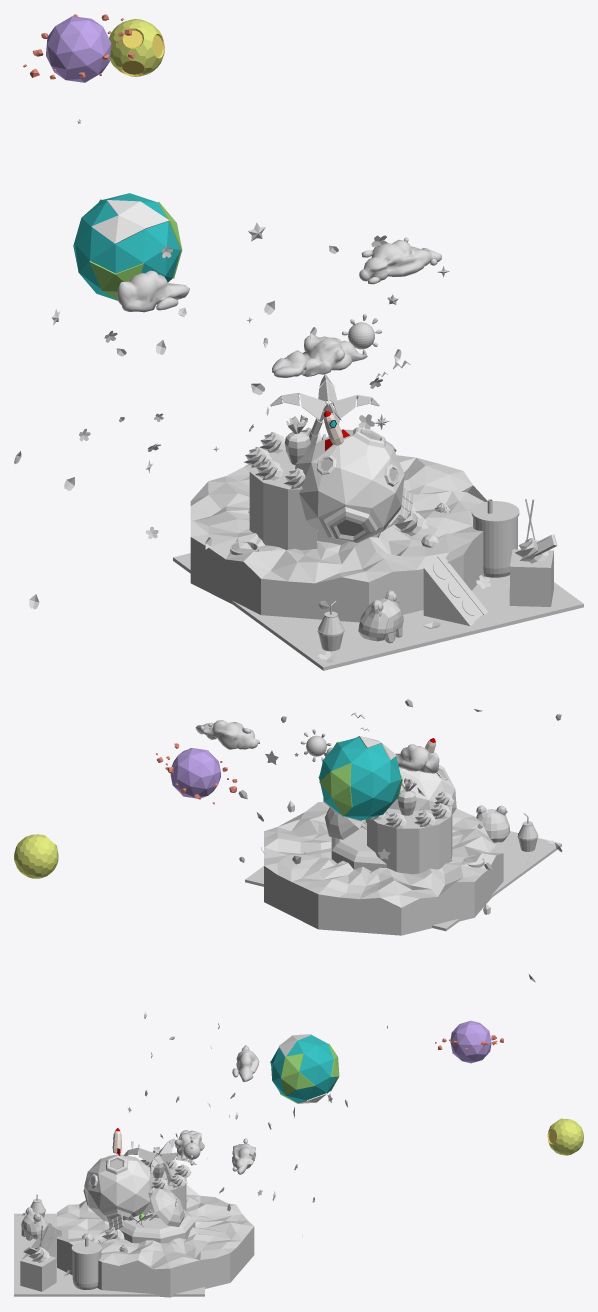
File: models.glb
The picture shows the model from 3 angles, top to bottom: view 1: azimuth 30°, elevation 25°; view 2: azimuth 150°, elevation 25°; view 3: azimuth 270°, elevation 25°; orthographic projection. The views are drawn at different scales.
Visible parts, largest first — view 1: water, planets, moon, cloud, white, cream2_in, red1_clip, cream1_out, green2, boba_cup, cream1_in, dark_green (+4 smaller); view 2: water, planets, cream2_in, cloud, moon, sand, white, cream1_in, green2, red1_clip, red, cream (+3 smaller); view 3: water, planets, moon, cloud, white, sand, boba_cup, green2, red1_clip, cream1_in, dark_green, cream (+5 smaller).
Boxes of the visible parts, x1=… form: water: x1=190, y1=455, x2=487, y2=622; planets: x1=23, y1=14, x2=182, y2=300; moon: x1=295, y1=427, x2=404, y2=542; cloud: x1=117, y1=237, x2=441, y2=378; white: x1=173, y1=557, x2=583, y2=670; cream2_in: x1=249, y1=448, x2=425, y2=550; red1_clip: x1=173, y1=553, x2=583, y2=659; cream1_out: x1=318, y1=553, x2=487, y2=651; green2: x1=358, y1=538, x2=553, y2=641; boba_cup: x1=471, y1=501, x2=519, y2=577; cream1_in: x1=244, y1=427, x2=449, y2=536; dark_green: x1=270, y1=375, x2=379, y2=439; water: x1=264, y1=802, x2=503, y2=935; planets: x1=14, y1=736, x2=402, y2=878; cream2_in: x1=367, y1=806, x2=452, y2=874; cloud: x1=195, y1=720, x2=439, y2=773; moon: x1=389, y1=765, x2=456, y2=814; sand: x1=331, y1=822, x2=386, y2=870; white: x1=245, y1=831, x2=561, y2=931; cream1_in: x1=369, y1=791, x2=453, y2=828; green2: x1=476, y1=805, x2=509, y2=842; red1_clip: x1=260, y1=831, x2=546, y2=928; red: x1=324, y1=810, x2=366, y2=839; cream: x1=325, y1=712, x2=369, y2=839; water: x1=57, y1=1184, x2=254, y2=1297; planets: x1=270, y1=1020, x2=583, y2=1155; moon: x1=83, y1=1154, x2=154, y2=1222; cloud: x1=174, y1=1045, x2=259, y2=1174; white: x1=14, y1=1213, x2=204, y2=1296; sand: x1=119, y1=1209, x2=195, y2=1243; boba_cup: x1=71, y1=1241, x2=101, y2=1289; green2: x1=20, y1=1207, x2=56, y2=1291; red1_clip: x1=14, y1=1213, x2=180, y2=1294; cream1_in: x1=102, y1=1159, x2=191, y2=1252; dark_green: x1=123, y1=1139, x2=195, y2=1190; cream: x1=131, y1=1141, x2=184, y2=1226.
Size of the model in its own units: 9.65 by 8.2 by 17.3.
